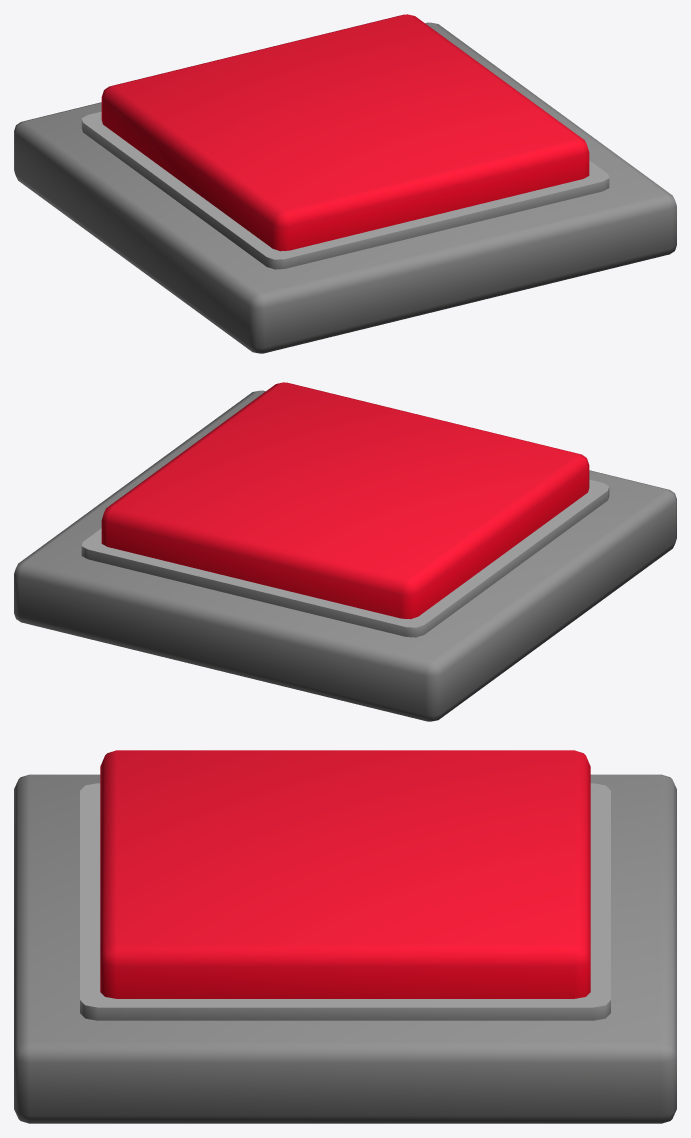
The model's file is Prop_Button_03.fbx.
3 views of the same model, one above another, from view 1: azimuth 30°, elevation 25°; view 2: azimuth 150°, elevation 25°; view 3: azimuth 270°, elevation 25° (orthographic). The views are drawn at different scales.
Visible parts, largest first — view 1: Prop_Button_03_Button.001, Prop_Button_03; view 2: Prop_Button_03_Button.001, Prop_Button_03; view 3: Prop_Button_03_Button.001, Prop_Button_03.
Part boxes in pixels (x1=…): Prop_Button_03_Button.001: x1=101, y1=14, x2=589, y2=251; Prop_Button_03: x1=14, y1=22, x2=676, y2=353; Prop_Button_03_Button.001: x1=101, y1=382, x2=589, y2=619; Prop_Button_03: x1=14, y1=390, x2=676, y2=721; Prop_Button_03_Button.001: x1=100, y1=750, x2=590, y2=998; Prop_Button_03: x1=14, y1=774, x2=676, y2=1123.
Bounding box in the file's own units: 95.26 × 22.6 × 95.26.
